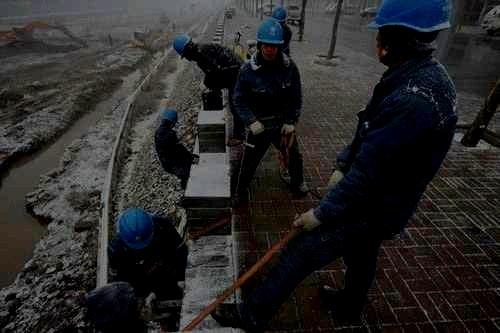helmet: (366, 1, 453, 64), (116, 205, 155, 250), (253, 17, 285, 62), (171, 33, 198, 63), (270, 4, 287, 31), (159, 108, 178, 130)
